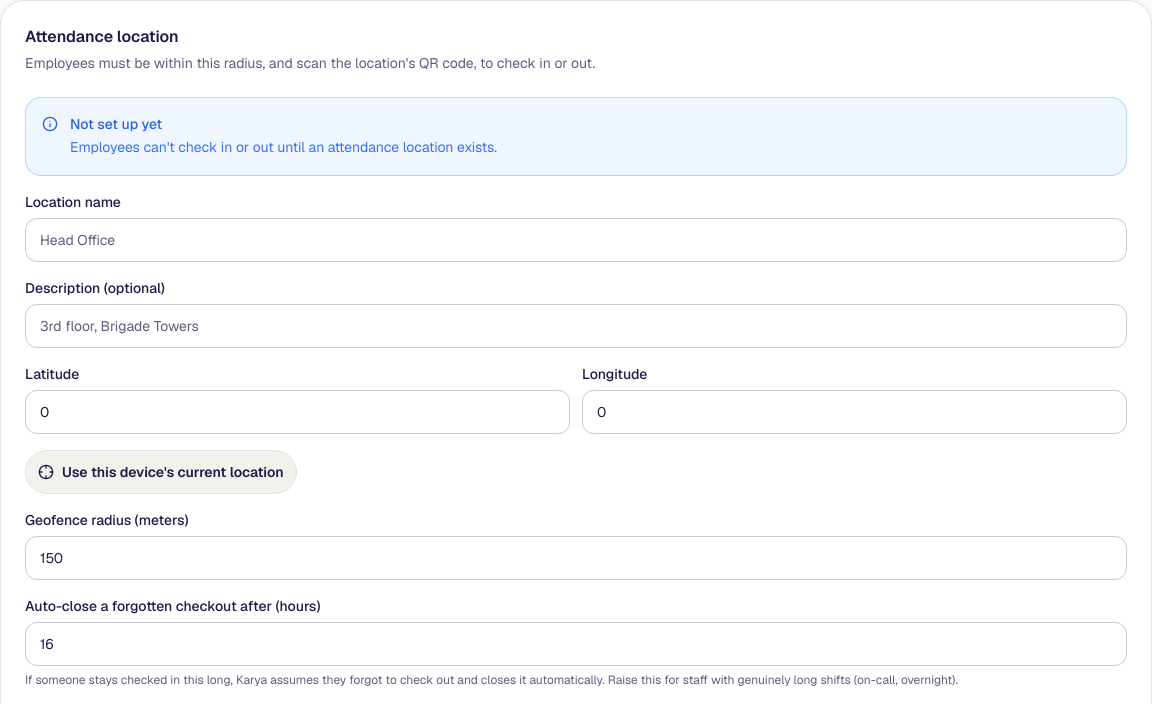
Test case: AttendanceLocationCard › creates a location and switches the button to "Save changes"
Expected: the text "Not set up yet" is shown, [70,115,162,133]
Type "HQ" into the field labelled "Location name" at (576, 240), box [25,218,1127,262]
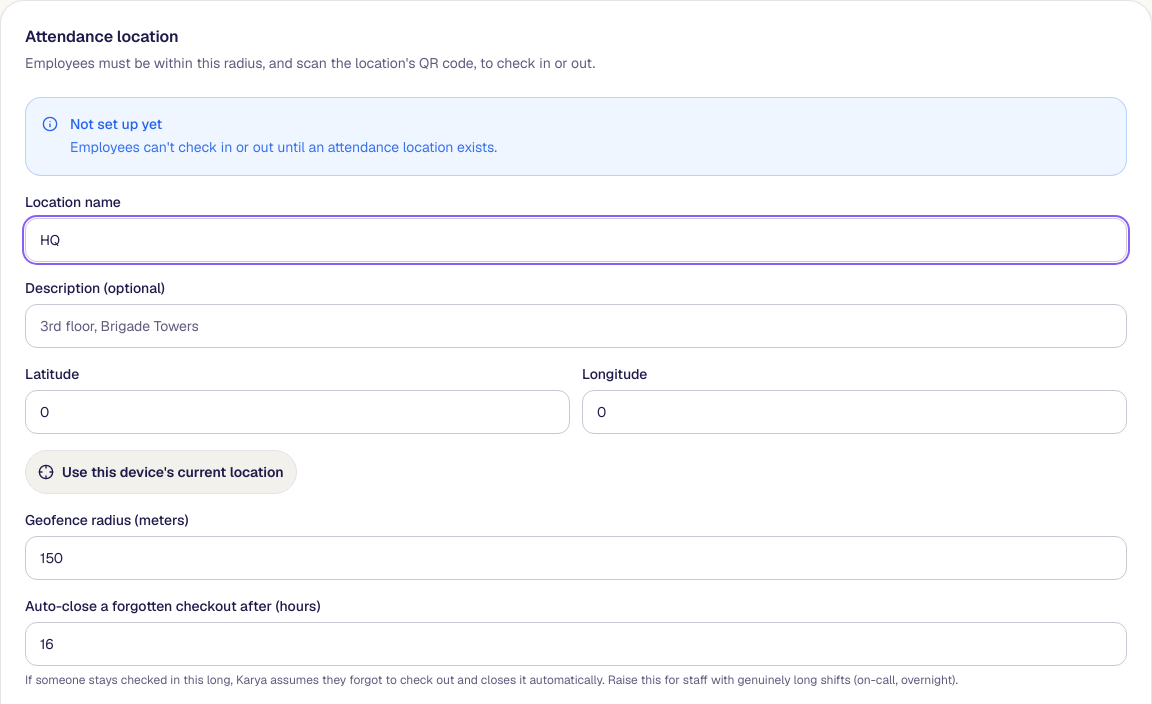
Type "12.9716" into the number field labelled "Latitude" at (298, 412), box [25,390,570,434]
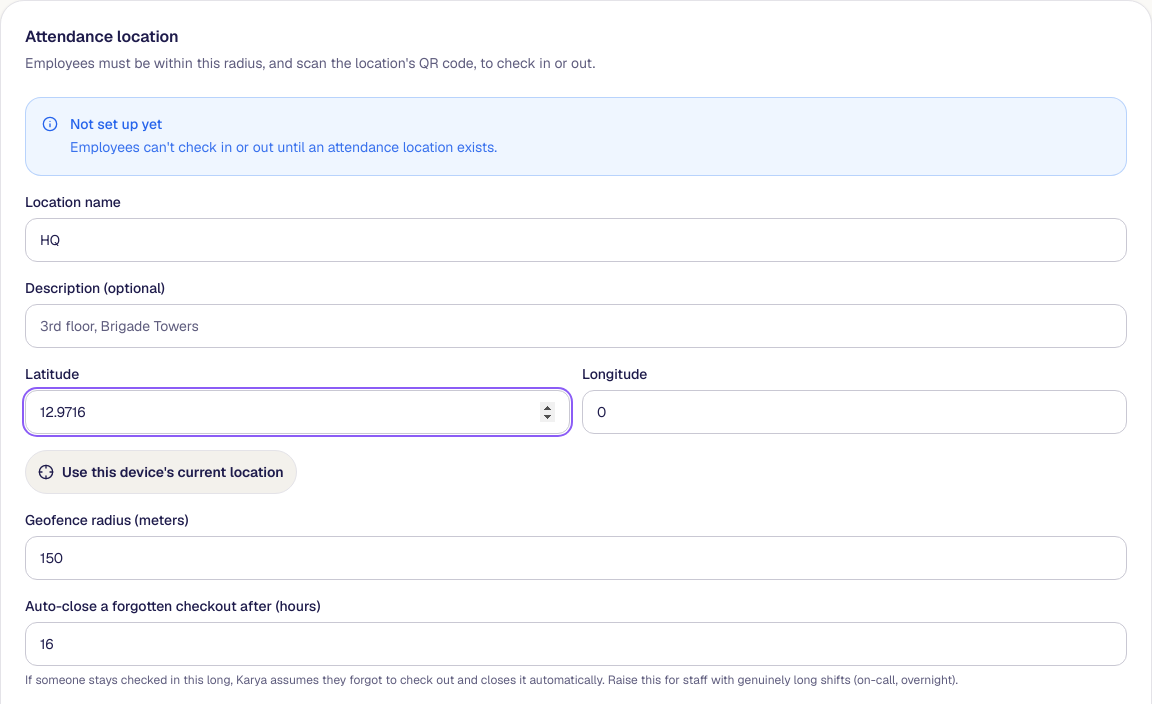
Type "77.5946" into the number field labelled "Longitude" at (854, 412), box [582,390,1127,434]
(page scrolled)
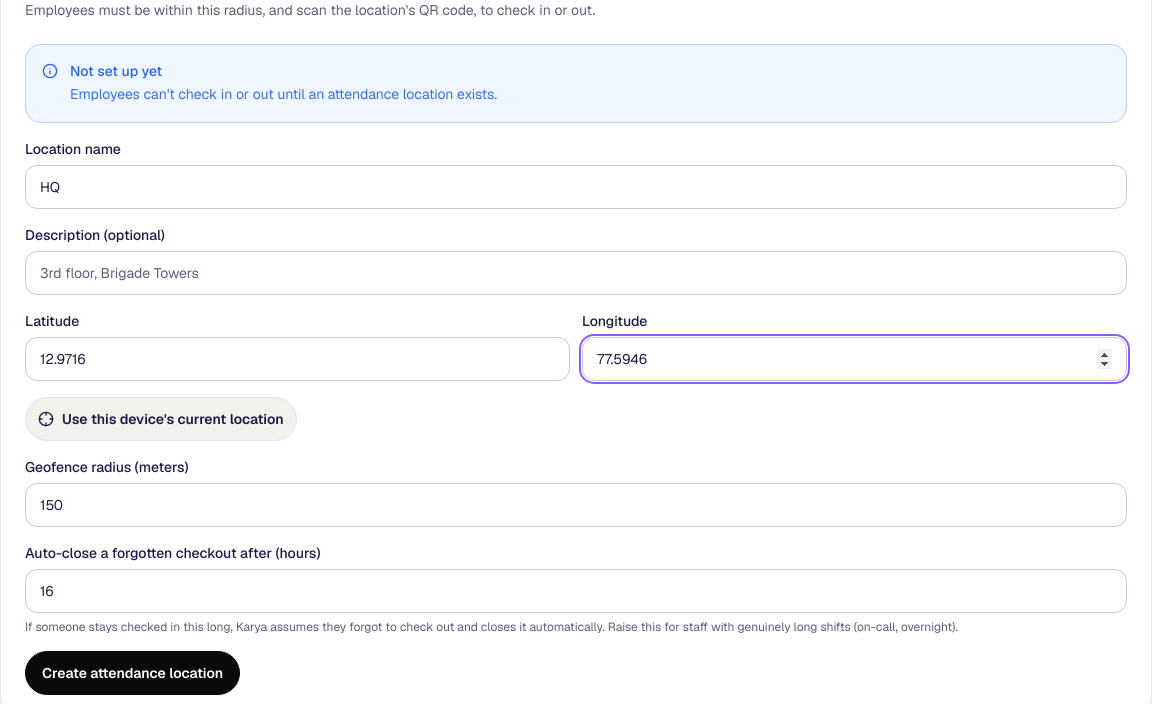
Click the button "Create attendance location" at (133, 673), box [25,651,240,695]
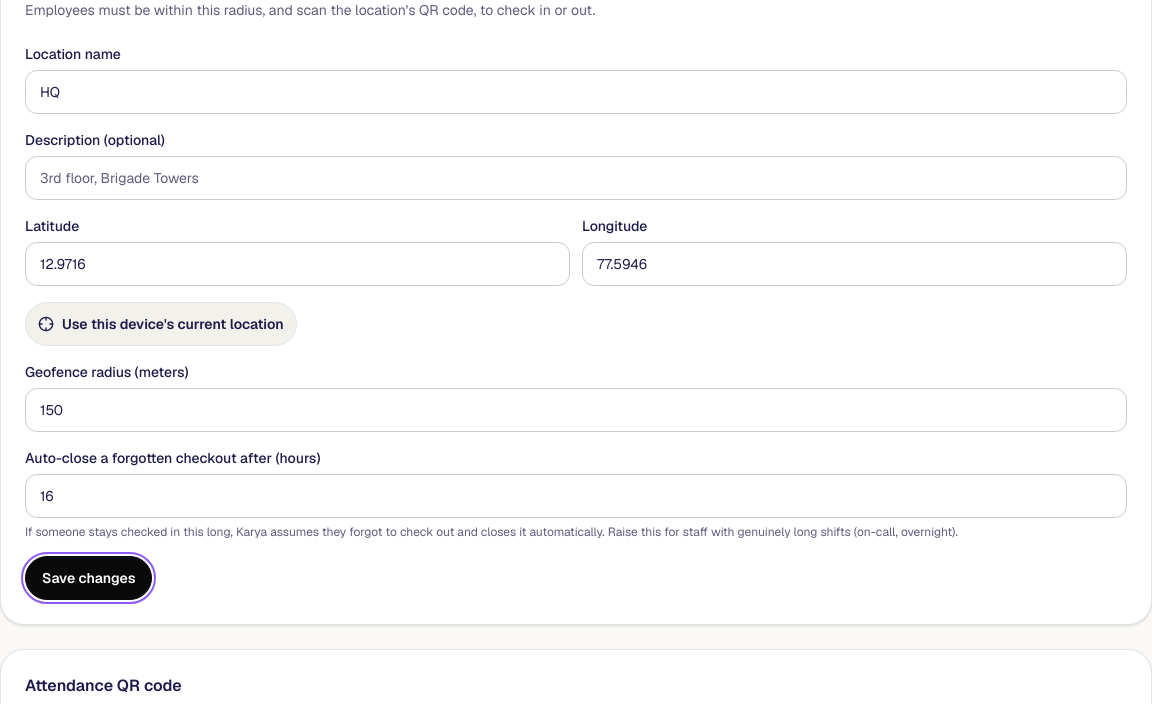
Expected: the button "Save changes" is shown, [25,556,152,600]
